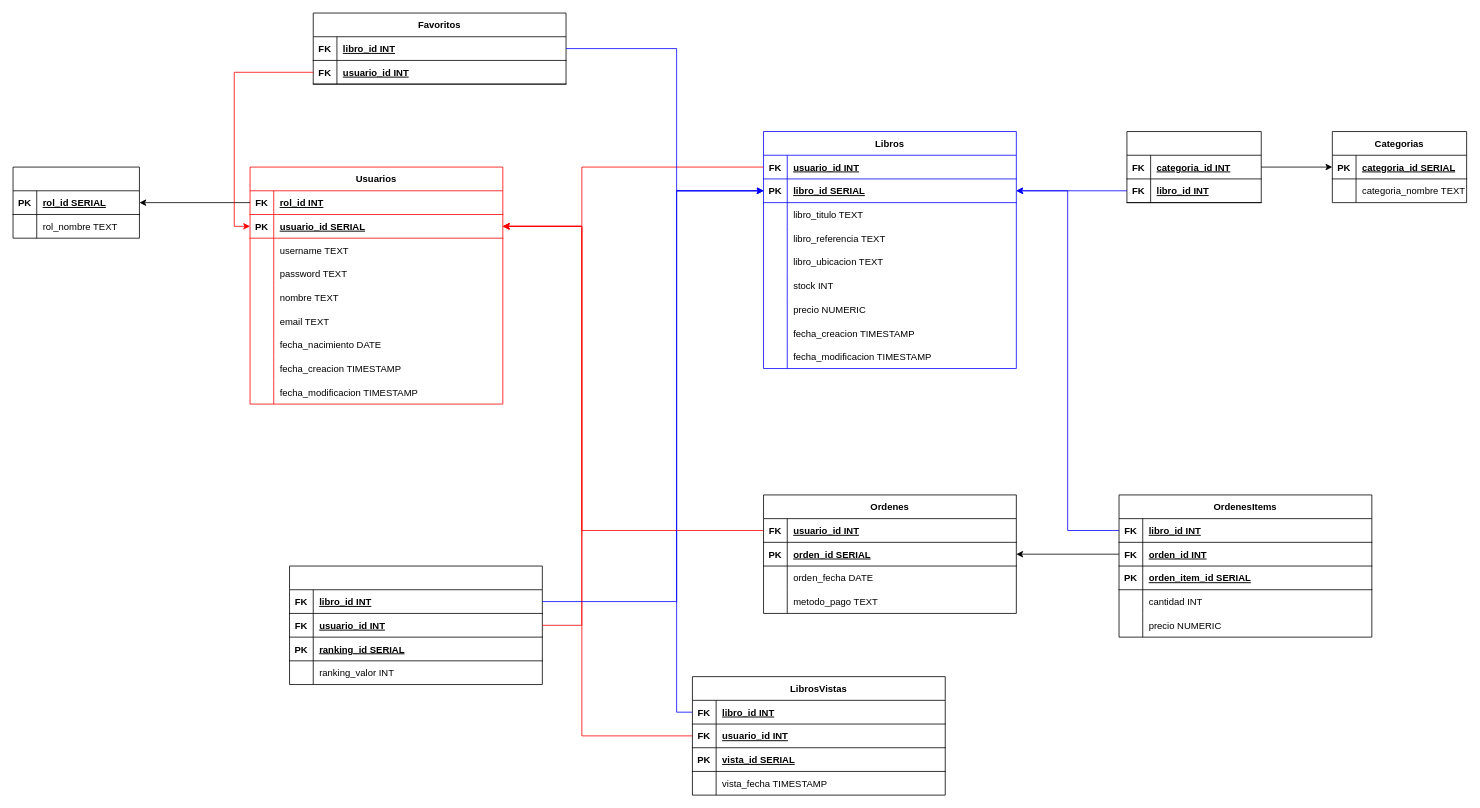
Image size: 1480x808. Some labels were removed from this diagram. The shapes that lost their labels are listed below. From the top down, each one's box as (x1, y1, x2, y2) in pixels, then its label:
(1126, 131, 1261, 203): CategoriasLibros
(12, 166, 139, 238): Roles
(289, 565, 542, 685): Rankings
